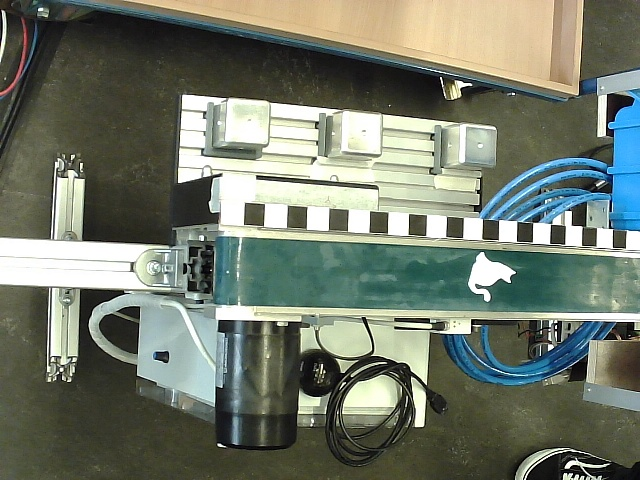cat: (468, 250, 516, 303)
